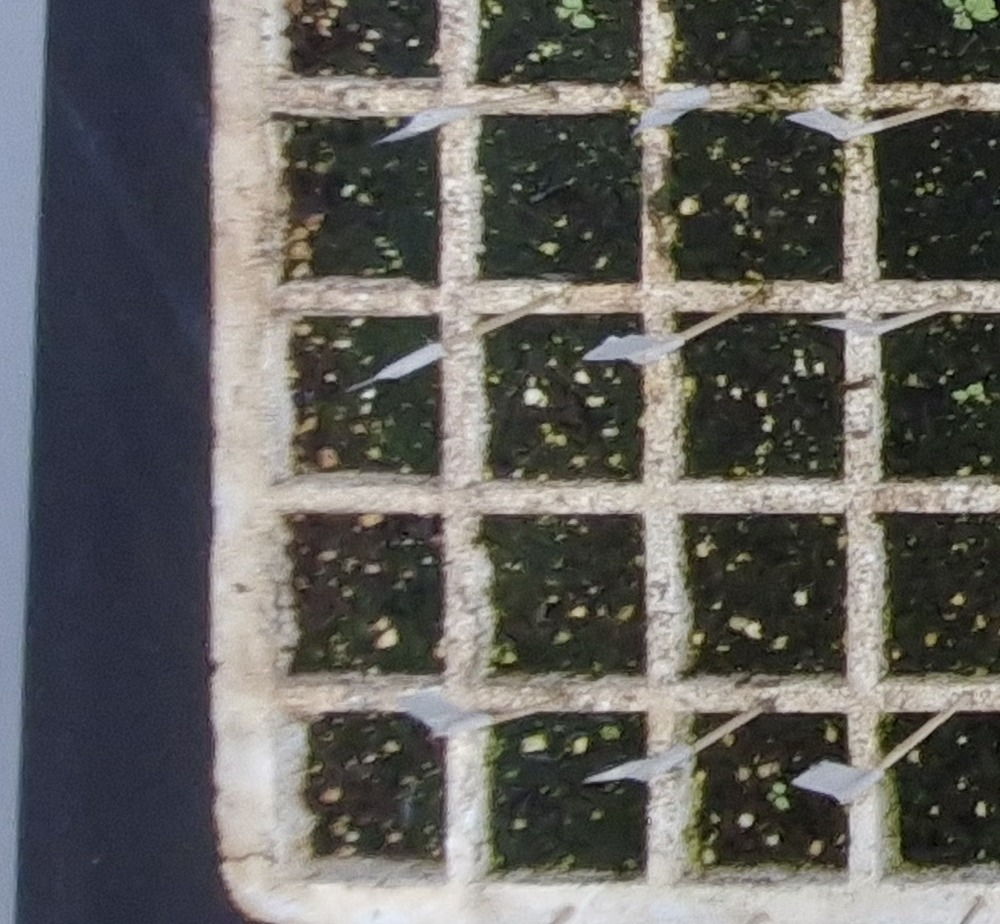Folha: (964, 0, 998, 22), (953, 12, 971, 29), (573, 14, 594, 28), (555, 6, 571, 19), (968, 382, 984, 395), (562, 0, 583, 9), (776, 797, 790, 809), (952, 391, 968, 400), (773, 784, 787, 794), (765, 792, 777, 802)
Germinacao: (943, 0, 999, 30), (765, 782, 790, 809), (952, 382, 984, 400)
